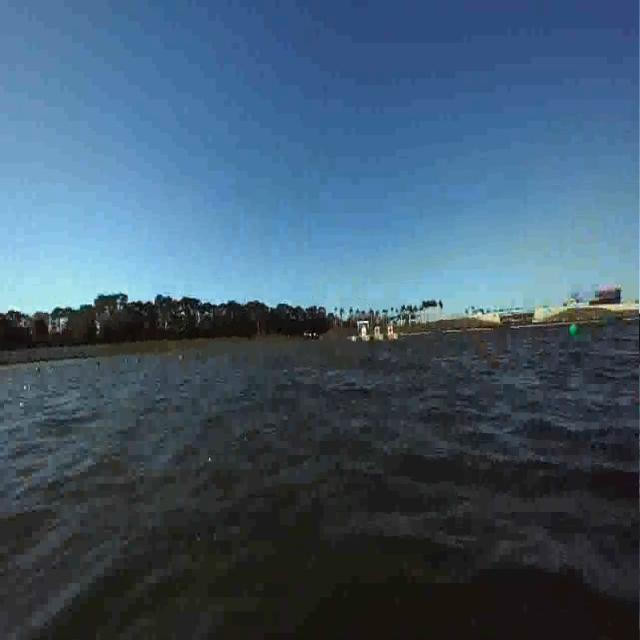green-buoy: (568, 323, 579, 337)
